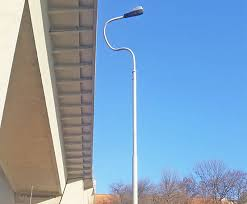light_pole: (101, 2, 145, 204)
